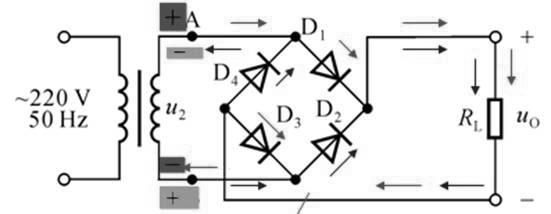bridge: (220, 27, 373, 187)
res1: (484, 95, 505, 143)
trans: (115, 67, 163, 147)
